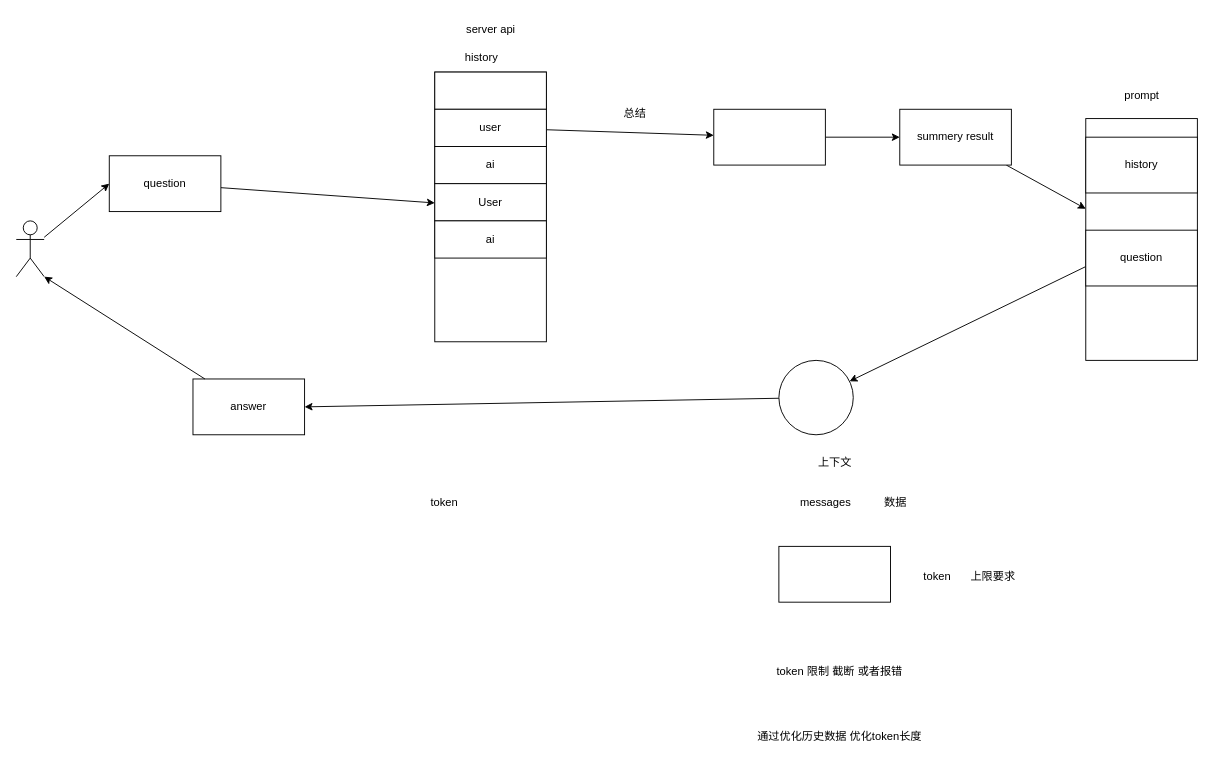
Some shapes in this 1214 by 766 pixel diagram are drawn without their labels. Here are the shapes that lost their labels. From the top down, the centre of each, then its label:
(490,90): system
(769,136): summery llm
(29,248): Actor
(815,397): llm
